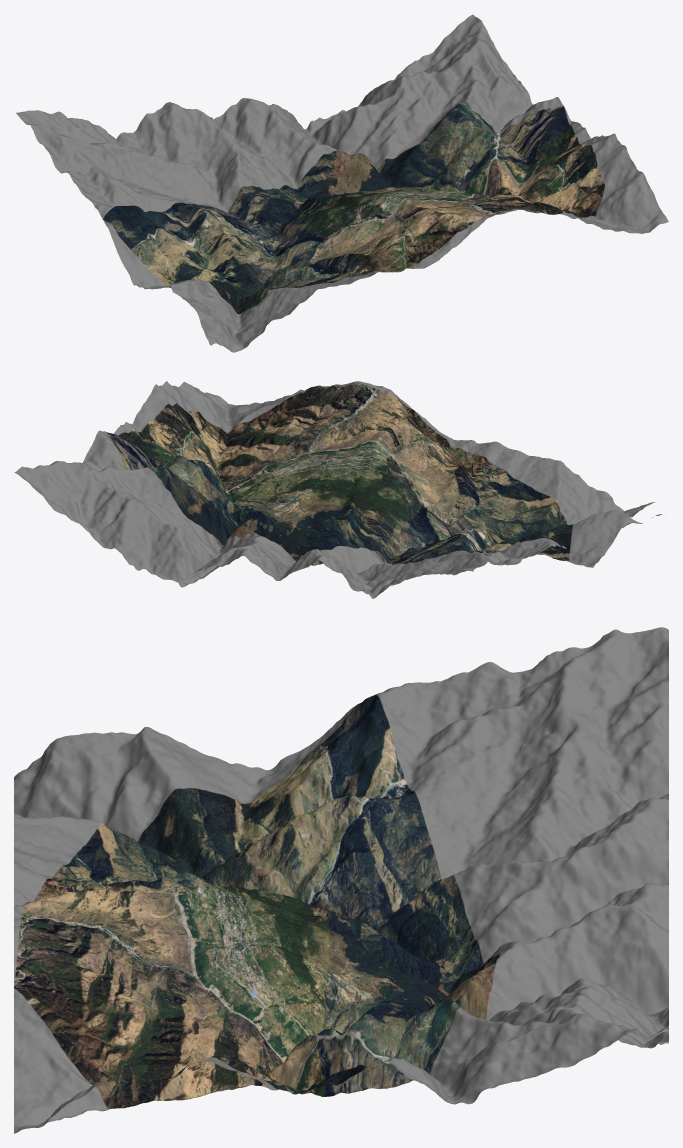
Rendered from joshimath_terrain.gltf.
The picture shows the model from 3 angles, top to bottom: view 1: azimuth 30°, elevation 25°; view 2: azimuth 150°, elevation 25°; view 3: azimuth 270°, elevation 25°; orthographic projection. The views are drawn at different scales.
Visible parts, largest first — view 1: joshimath; view 2: joshimath; view 3: joshimath.
Boxes of the visible parts, bbox=[...] form: joshimath: bbox=[16, 14, 668, 352]; joshimath: bbox=[14, 381, 662, 598]; joshimath: bbox=[14, 627, 668, 1133].
Bounding box in the file's own units: 76.98 × 16.58 × 56.83.
1 material, 1 textured.
